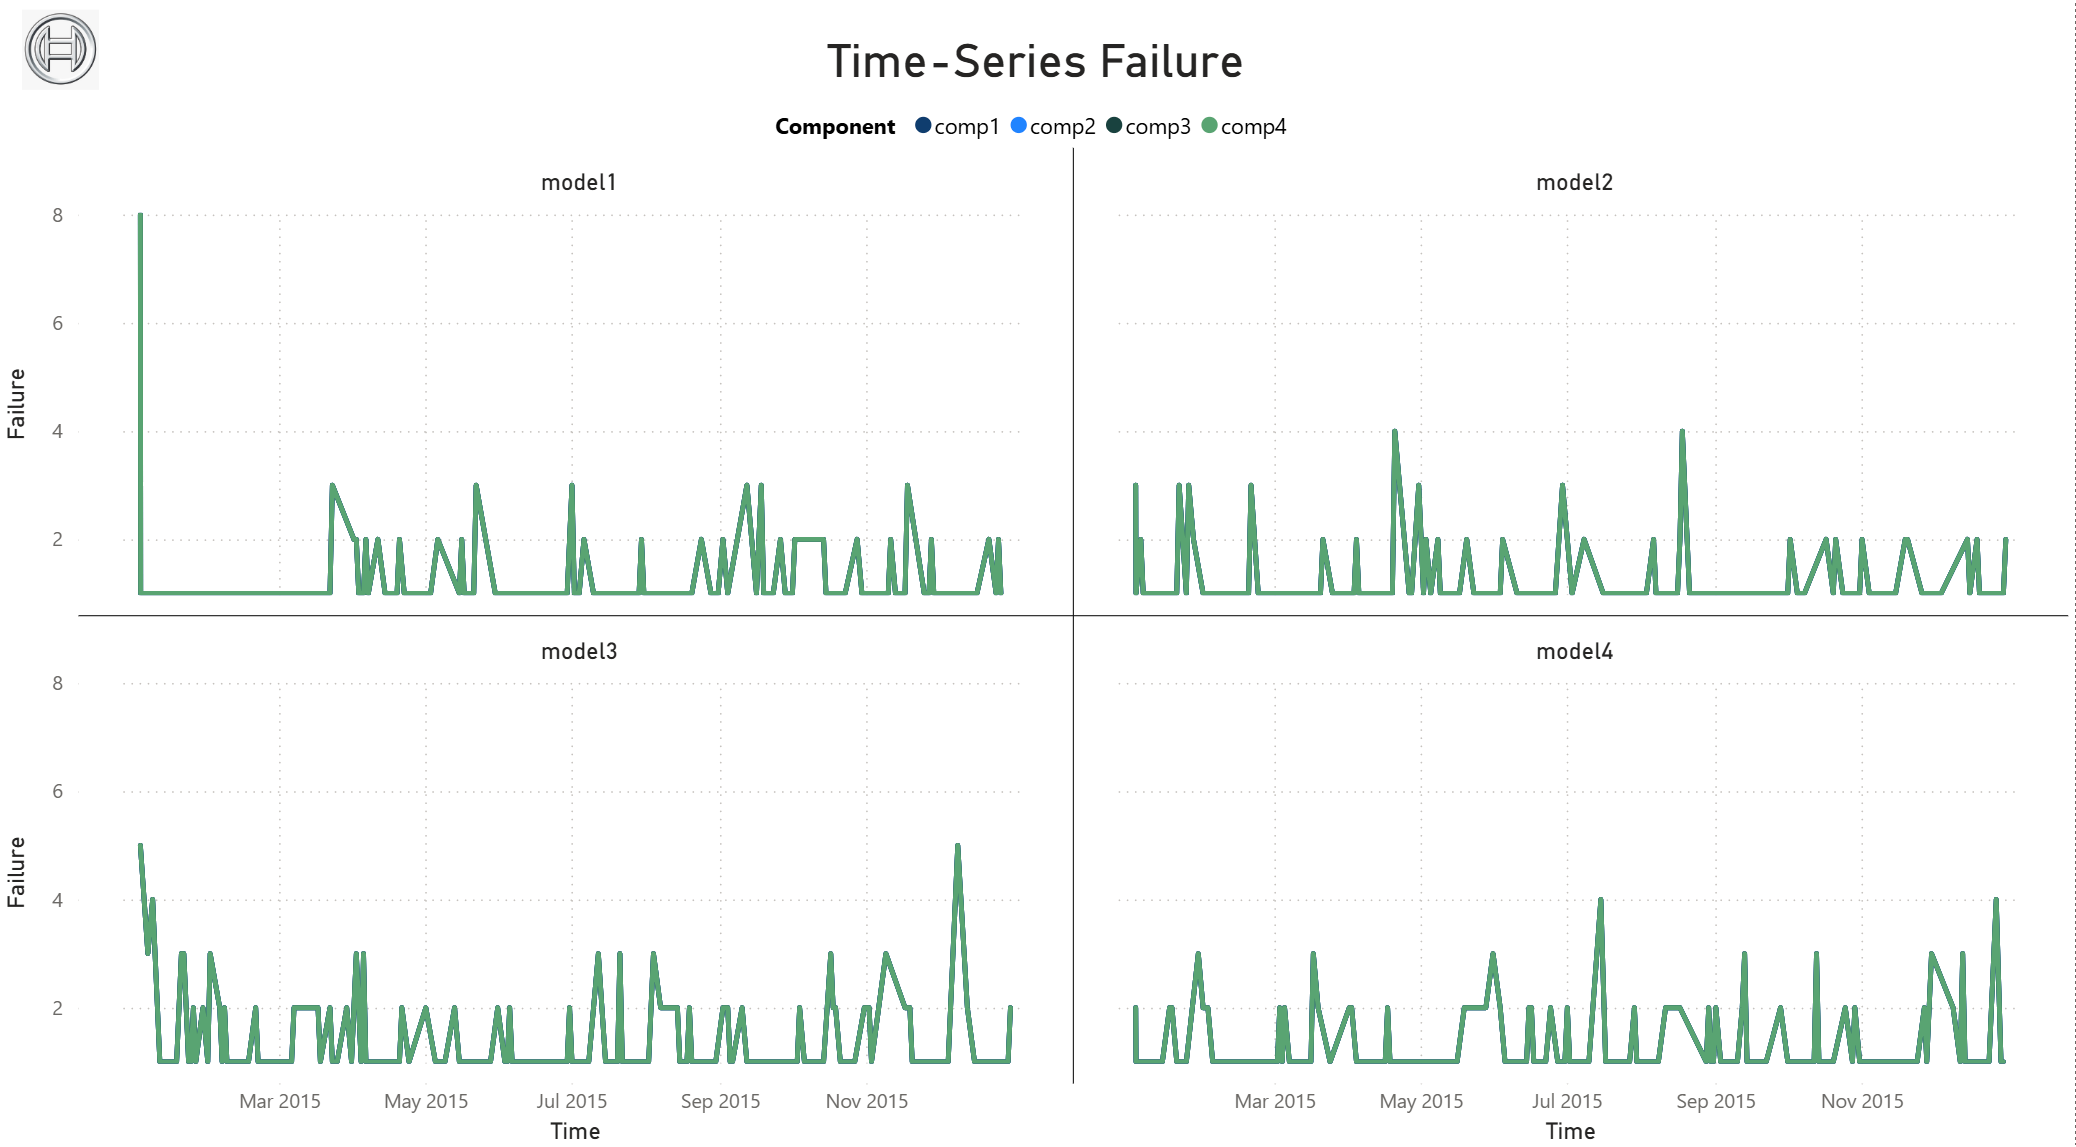

What the dashboard file says about the page in this screenshot:
{"tool":"powerbi","page":{"name":"Failure Variation","canvas":[1280,720],"ordinal":2},"visuals":[{"type":"lineChart","title":"Time-Series Failure ","fields":{"Category":["PdM_failures.datetime"],"Y":["CountNonNull(PdM_failures.failure)"],"Rows":["PdM_machines.model"],"Series":["PdM_maint.comp"]},"box":[0,31.2,1280.3,689],"z":0},{"type":"image","box":[0,7,101.6,96.6],"z":1000}]}

Visuals, with their boxes in screenshot pixels (x1, y1, x2, y2), scaled from the page's 1280x720 canvas onto the 2076x1147 screenshot:
"Time-Series Failure " lineChart: BBox(0, 50, 2075, 1146)
image: BBox(0, 11, 165, 165)
